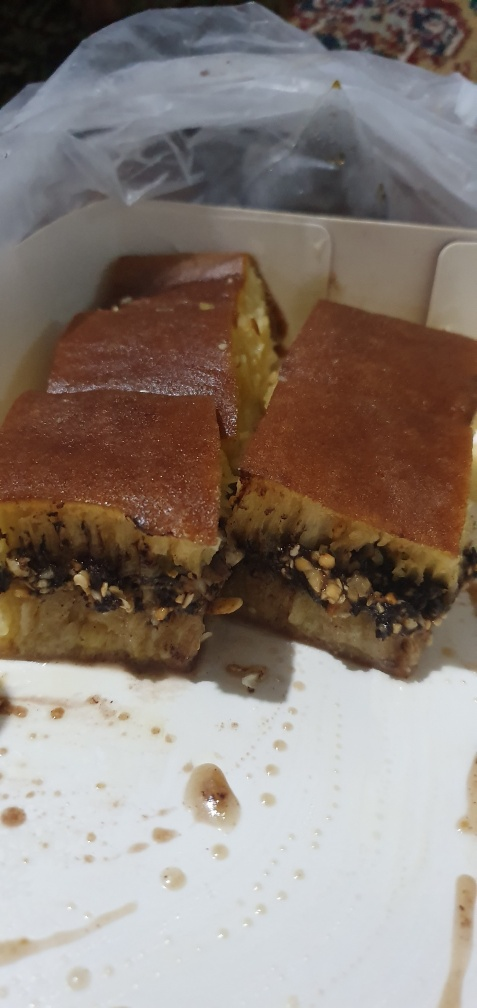martabak manis: (238, 377, 475, 689), (1, 396, 231, 689)
